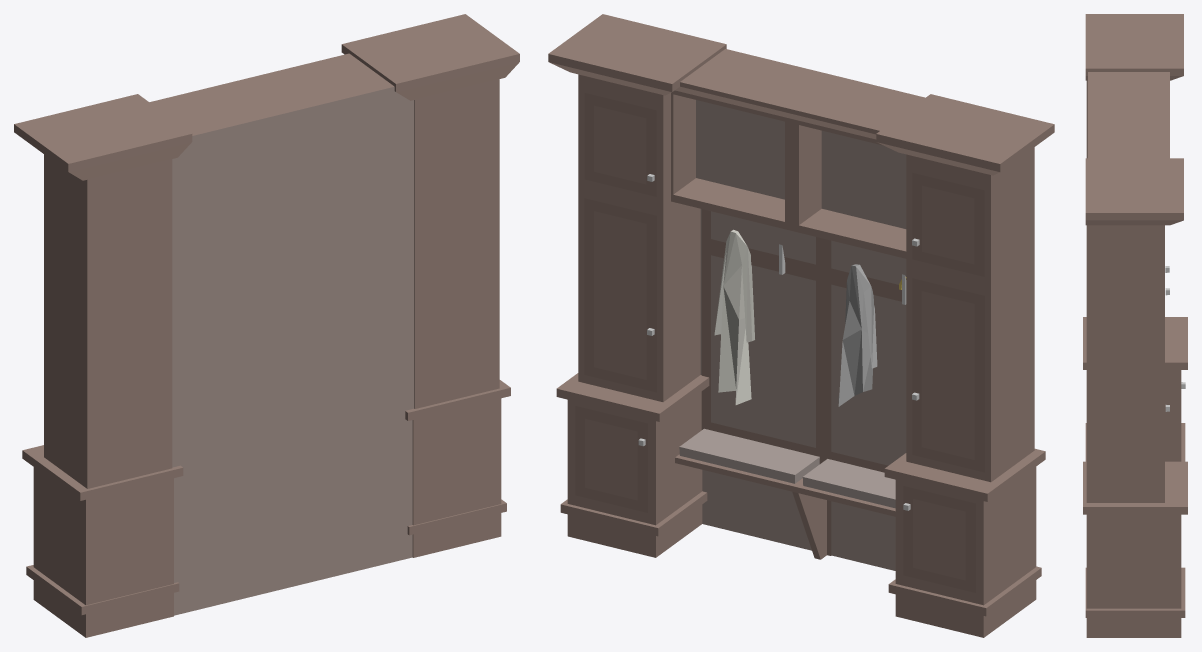
The model's file is cabinet_fancy.glb.
3 views of the same model, side by side, from view 1: azimuth 30°, elevation 25°; view 2: azimuth 150°, elevation 25°; view 3: azimuth 270°, elevation 25° (orthographic). The views are drawn at different scales.
Parts seen in each view (by area): view 1: furniture_038; view 2: furniture_038; view 3: furniture_038.
Part boxes in pixels (left/top/right/bottom): furniture_038: left=14, top=14, right=519, bottom=637; furniture_038: left=548, top=14, right=1054, bottom=637; furniture_038: left=1083, top=14, right=1187, bottom=637.
Size of the model in its own units: 1.76 by 1.78 by 0.391.
